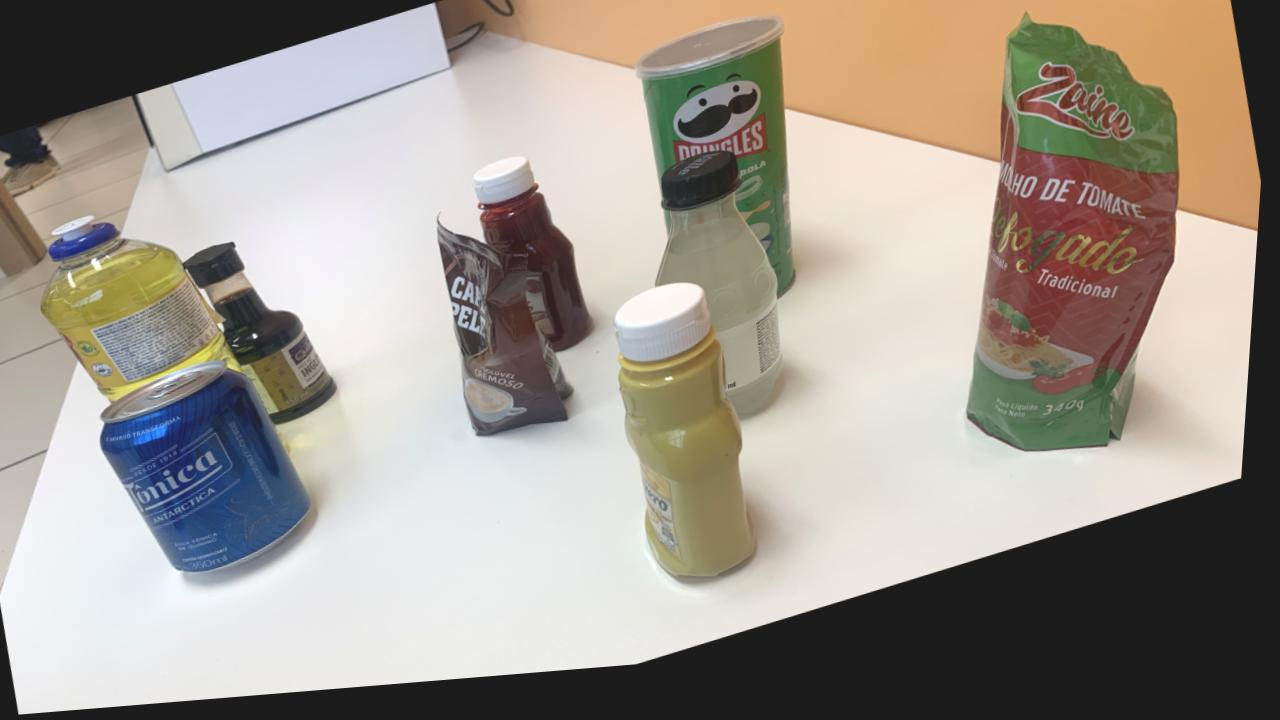Coffee-Pantry_Items: (440, 225, 577, 445)
Detergent-Cleanup_Items: (44, 217, 247, 403)
English_Sauce-Pantry_Items: (186, 246, 342, 429)
Ketchup-Pantry_Items: (475, 165, 598, 361)
Mustard-Pantry_Items: (618, 293, 764, 589)
Pringles-Snacks: (637, 27, 800, 307)
Soda-Drinks: (660, 164, 788, 428)
Tomato_Sauce-Pantry_Items: (973, 32, 1183, 469)
Tonic-Drinks: (106, 364, 318, 577)
